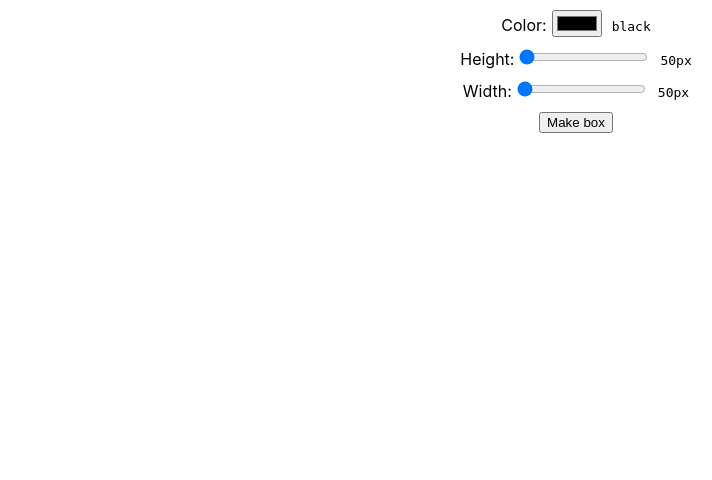
Test: should delete a box
In the colour field labelled "Color:": (577, 24) x1=552 y1=10 x2=602 y2=37, type "#1d7bd3"
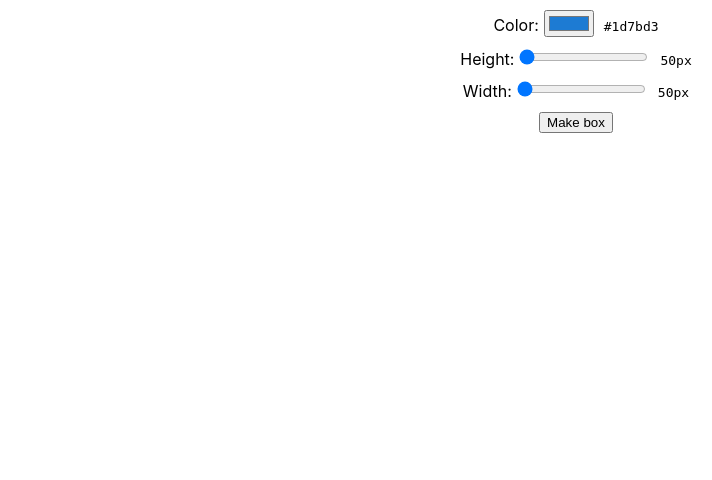
Set the slider labelled "Height:" to "300": (590, 57) x1=520 y1=49 x2=648 y2=65
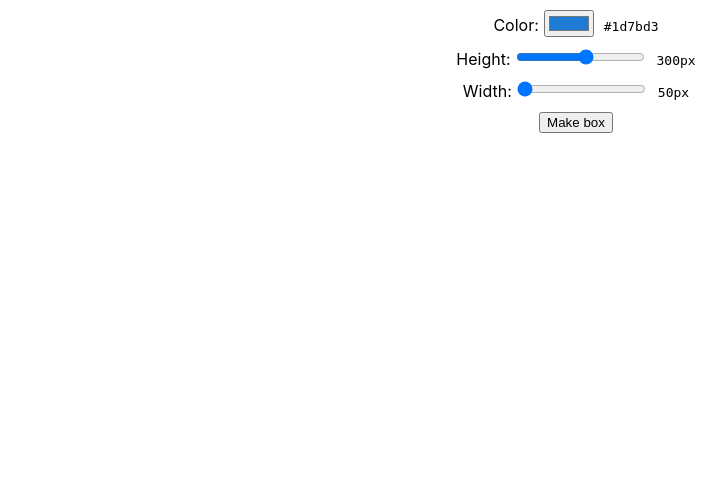
Set the slider labelled "Width:" to "125": (544, 89) x1=517 y1=81 x2=646 y2=97
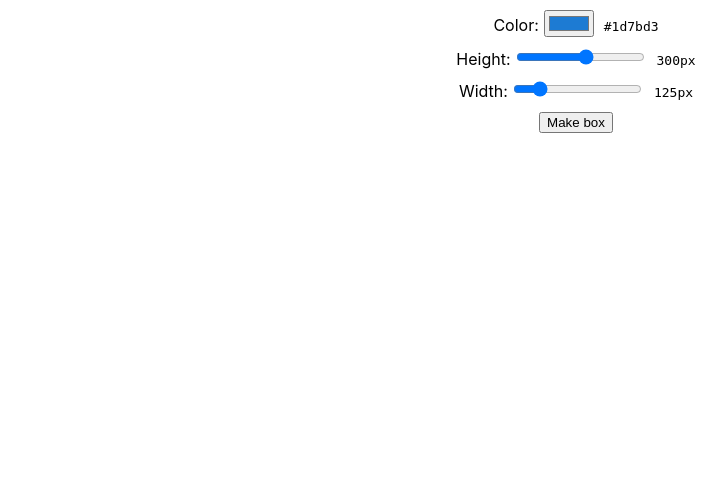
Click the button "Make box": (576, 122) x1=539 y1=112 x2=613 y2=133
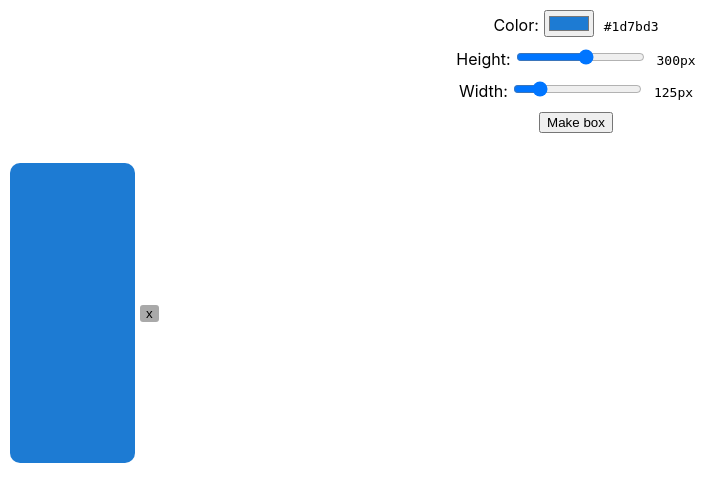
Now the element with test id "colored-box" is shown, box x1=10 y1=163 x2=135 y2=463
Click the button "x": (149, 313) x1=140 y1=304 x2=159 y2=322
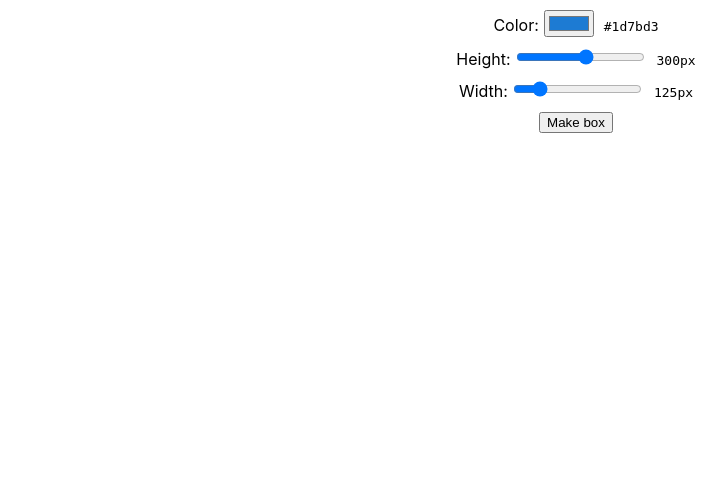
Now the element with test id "colored-box" is gone
